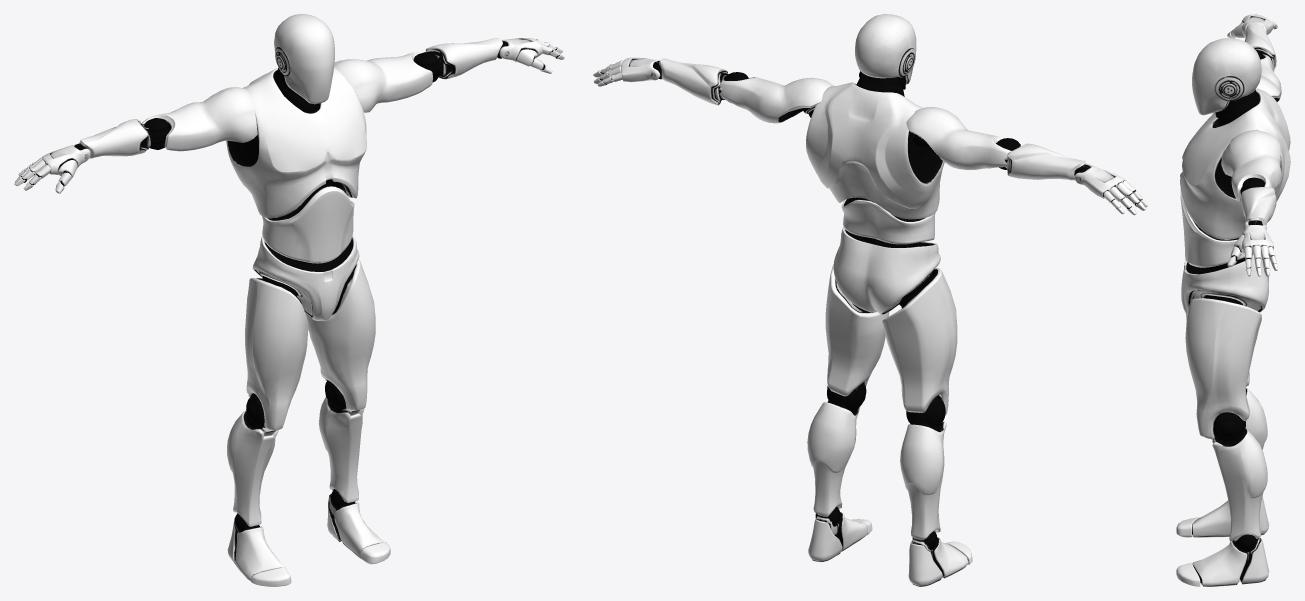
The model's file is modelo3.glb.
3 views of the same model, side by side, from view 1: azimuth 30°, elevation 25°; view 2: azimuth 150°, elevation 25°; view 3: azimuth 270°, elevation 25° (orthographic). The views are drawn at different scales.
Parts seen in each view (by area): view 1: Body; view 2: Body; view 3: Body.
Part boxes in pixels (x1=…): Body: x1=14, y1=14, x2=564, y2=586; Body: x1=593, y1=14, x2=1147, y2=586; Body: x1=1176, y1=14, x2=1290, y2=586.
Size of the model in its own units: 2.17 by 2.03 by 0.4087.
1 material, 1 textured.
